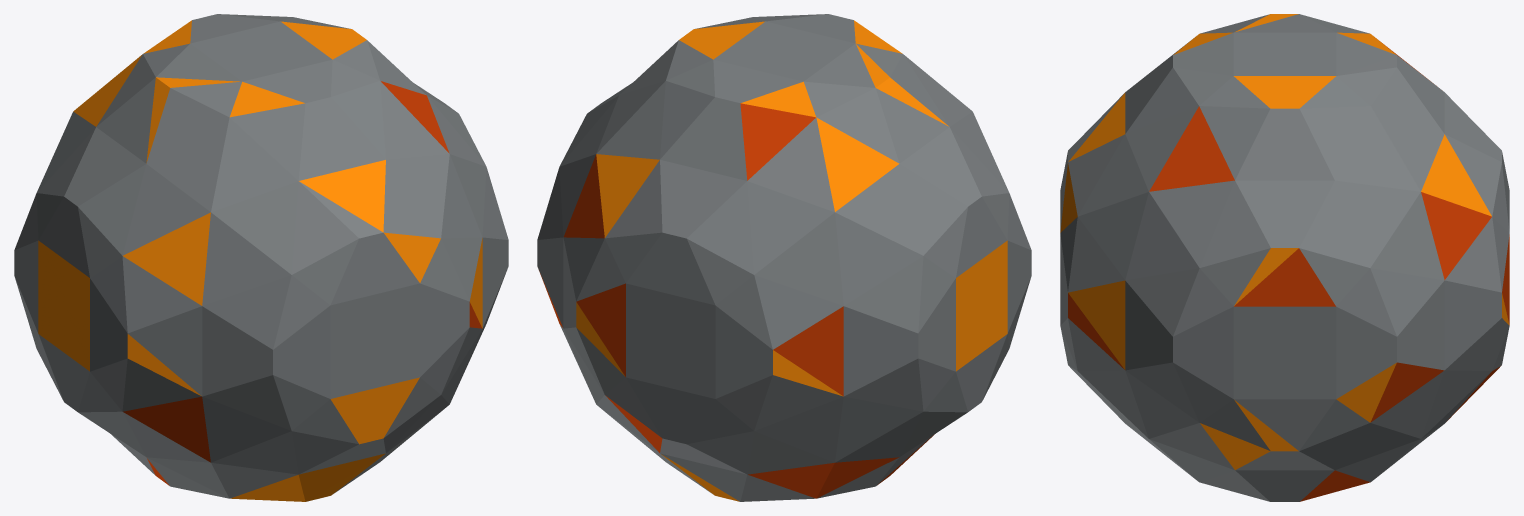
Rendered from fire_bullet.obj.
3 views of the same model, side by side, from view 1: azimuth 30°, elevation 25°; view 2: azimuth 150°, elevation 25°; view 3: azimuth 270°, elevation 25° (orthographic).
Visible parts, largest first — view 1: Сфера; view 2: Сфера; view 3: Сфера.
Boxes of the visible parts, x1=… form: Сфера: x1=14, y1=14, x2=508, y2=501; Сфера: x1=537, y1=14, x2=1031, y2=501; Сфера: x1=1060, y1=14, x2=1509, y2=501.
Size of the model in its own units: 0.8382 by 0.8383 by 0.8382.
